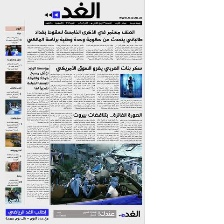news_paper: (0, 0, 148, 224)
